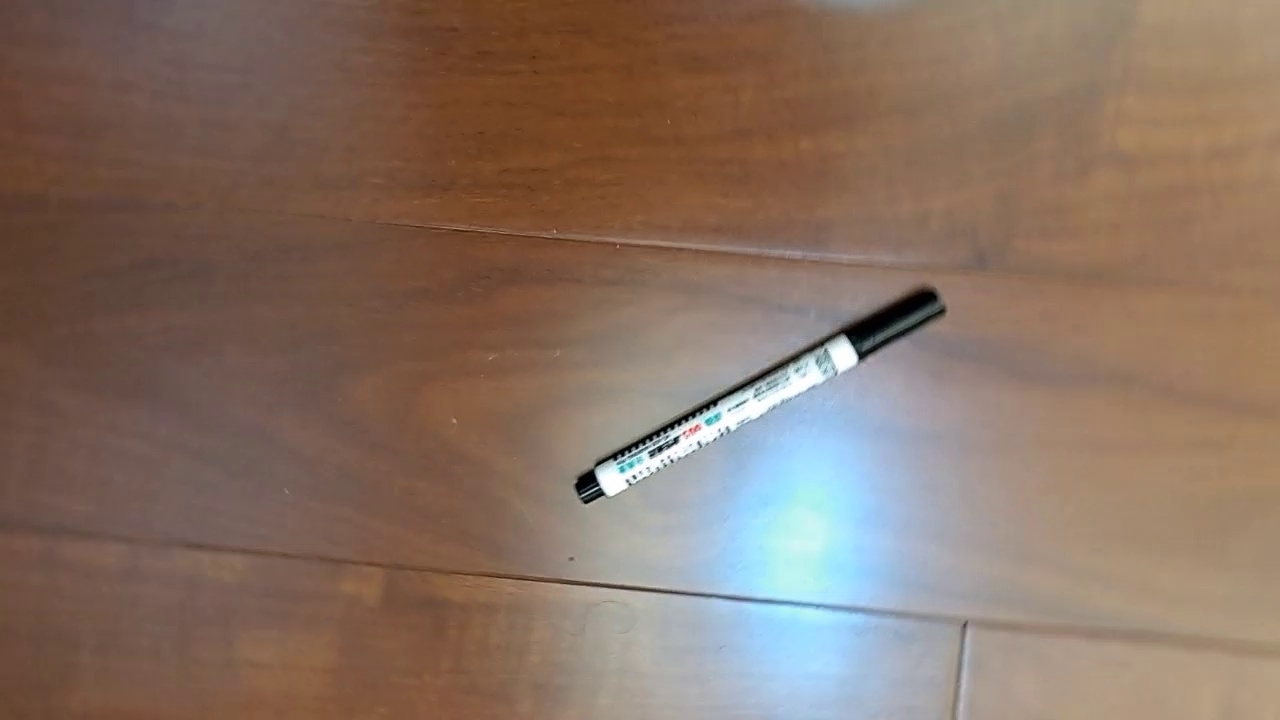pen: (573, 282, 950, 507)
